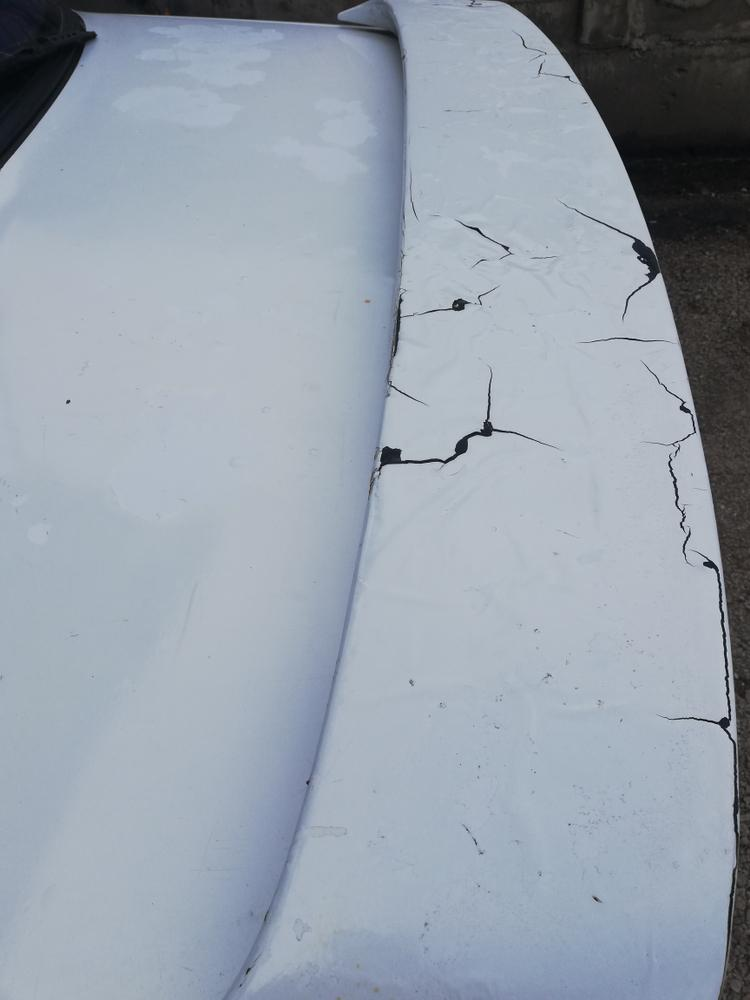crack: (641, 361, 742, 976), (374, 363, 566, 476), (386, 282, 499, 408), (562, 205, 659, 323), (511, 30, 587, 85), (458, 221, 513, 267), (574, 337, 676, 346)
